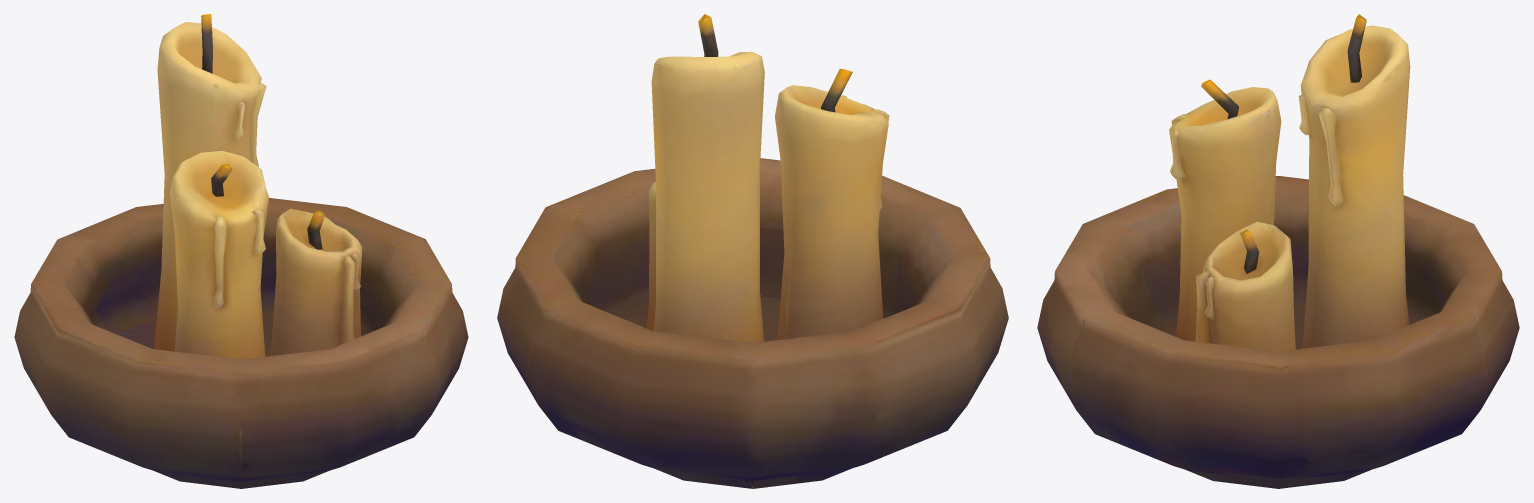
The model's file is t_velas_cuenco.glb.
The picture shows the model from 3 angles, left to right: view 1: azimuth 30°, elevation 25°; view 2: azimuth 150°, elevation 25°; view 3: azimuth 270°, elevation 25°; orthographic projection. The views are drawn at different scales.
Visible parts, largest first — view 1: Body_lambert1_0; view 2: Body_lambert1_0; view 3: Body_lambert1_0.
Boxes of the visible parts, x1,y1,x2,y2 form: Body_lambert1_0: (14,14,468,488); Body_lambert1_0: (497,14,1008,488); Body_lambert1_0: (1037,14,1519,488).
Size of the model in its own units: 0.1881 by 0.18 by 0.1862.
Materials: 1 (1 with a texture image).
